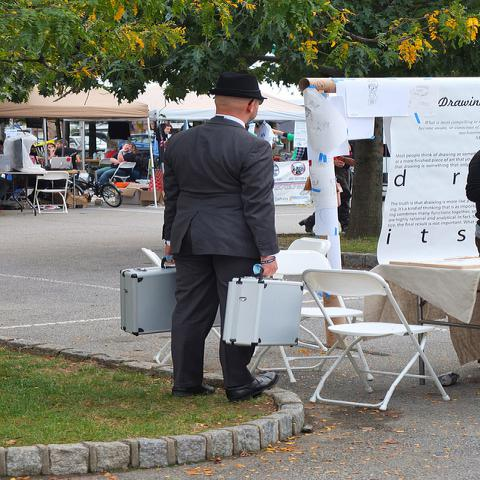car: (69, 136, 107, 150), (71, 131, 108, 141)
